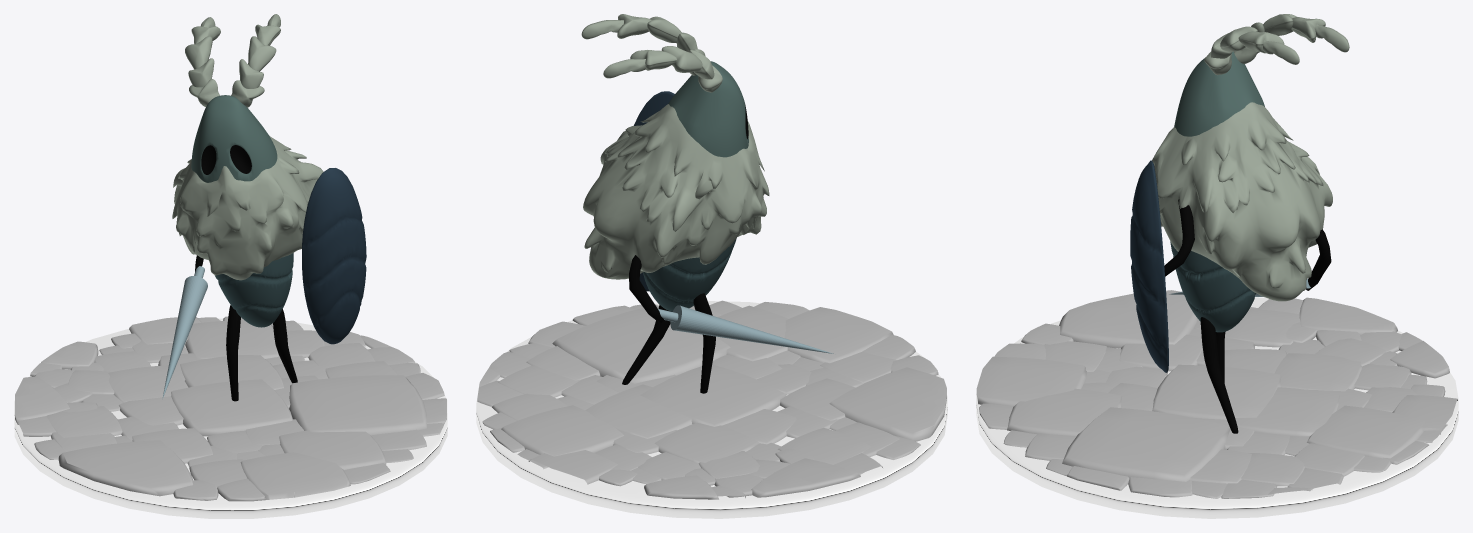
File: hollow-knight-33-34-moss-charger.glb
The picture shows the model from 3 angles, left to right: view 1: azimuth 30°, elevation 25°; view 2: azimuth 150°, elevation 25°; view 3: azimuth 270°, elevation 25°; orthographic projection. The views are drawn at different scales.
Parts seen in each view (by area): view 1: Floor.001_4, Beard_7, Sphere.002_13, Body_6, Stem3.001_8, Cone_14, Sphere.001_10, Sphere_9; view 2: Floor.001_4, Beard_7, Body_6, Stem3.001_8, Cone_14, Sphere.001_10, Sphere_9, Cylinder.001_12, Sphere.002_13; view 3: Floor.001_4, Beard_7, Body_6, Sphere.002_13, Stem3.001_8, Sphere_9, Cylinder_11, Cylinder.001_12.
Boxes of the visible parts, <box> form: Floor.001_4: <box>14,316,447,518</box>; Beard_7: <box>172,135,323,280</box>; Sphere.002_13: <box>302,168,366,344</box>; Body_6: <box>191,95,293,327</box>; Stem3.001_8: <box>185,14,280,107</box>; Cone_14: <box>162,266,207,399</box>; Sphere.001_10: <box>226,305,240,401</box>; Sphere_9: <box>273,309,297,383</box>; Floor.001_4: <box>476,300,947,518</box>; Beard_7: <box>583,104,769,279</box>; Body_6: <box>643,61,748,311</box>; Stem3.001_8: <box>581,14,722,92</box>; Cone_14: <box>658,305,833,353</box>; Sphere.001_10: <box>693,293,715,393</box>; Sphere_9: <box>622,305,672,384</box>; Cylinder.001_12: <box>629,255,663,323</box>; Sphere.002_13: <box>633,91,674,291</box>; Floor.001_4: <box>976,290,1458,518</box>; Beard_7: <box>1152,102,1332,301</box>; Body_6: <box>1170,51,1264,332</box>; Sphere.002_13: <box>1130,160,1168,372</box>; Stem3.001_8: <box>1204,14,1349,75</box>; Sphere_9: <box>1200,317,1238,433</box>; Cylinder_11: <box>1164,199,1194,276</box>; Cylinder.001_12: <box>1306,229,1331,290</box>.
Bounding box in the file's own units: 9.27 × 8.76 × 9.27.
